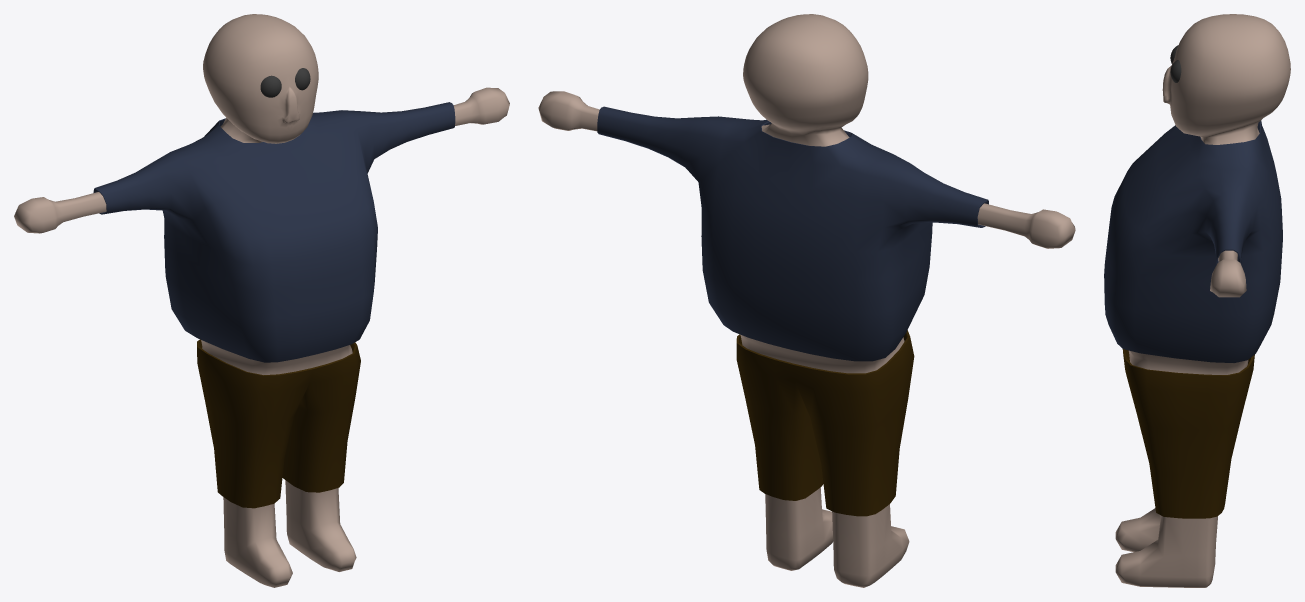
Rendered from PlayerCharacter.fbx.
The picture shows the model from 3 angles, left to right: view 1: azimuth 30°, elevation 25°; view 2: azimuth 150°, elevation 25°; view 3: azimuth 270°, elevation 25°; orthographic projection. The views are drawn at different scales.
Parts seen in each view (by area): view 1: Shirt, Body, Pants, Eyes; view 2: Shirt, Body, Pants; view 3: Shirt, Body, Pants, Eyes.
Part boxes in pixels (x1,y1,x2,y2): Shirt: [93, 102, 455, 362]; Body: [14, 14, 509, 587]; Pants: [197, 339, 360, 508]; Eyes: [260, 68, 310, 97]; Shirt: [597, 106, 988, 361]; Body: [538, 14, 1075, 587]; Pants: [736, 330, 914, 516]; Shirt: [1104, 120, 1282, 362]; Body: [1115, 14, 1290, 587]; Pants: [1122, 349, 1254, 518]; Eyes: [1170, 45, 1181, 82].
Size of the model in its own units: 7.89 by 8.06 by 2.5.
